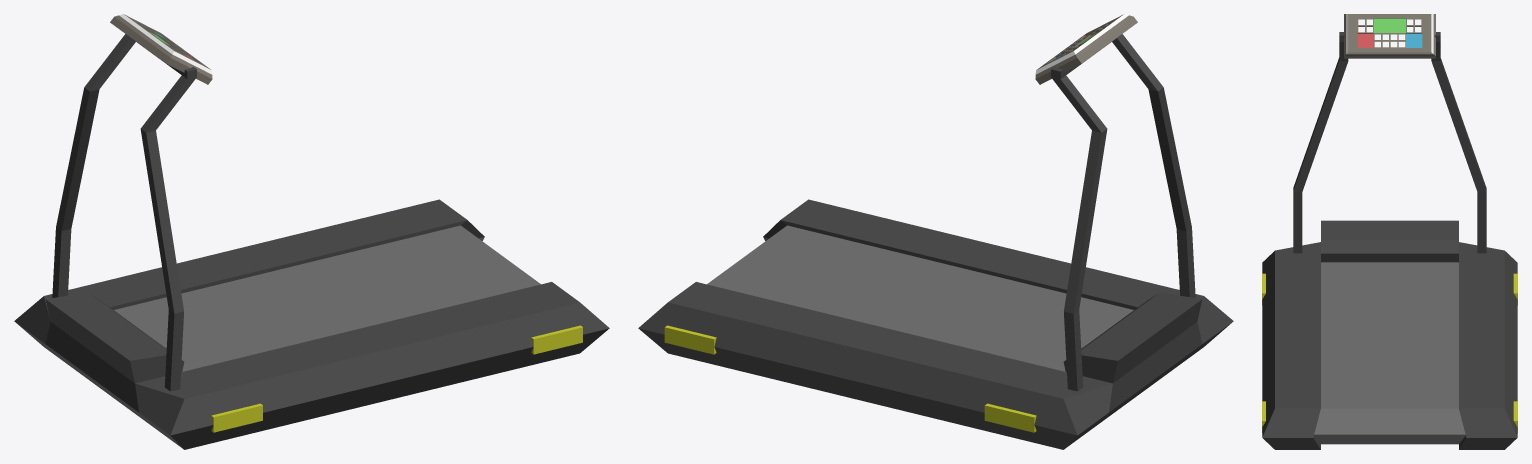
File: Treadmill.fbx
3 renders of one model, left to right at view 1: azimuth 30°, elevation 25°; view 2: azimuth 150°, elevation 25°; view 3: azimuth 270°, elevation 25°, orthographic. The views are drawn at different scales.
Parts seen in each view (by area): view 1: Treadmill; view 2: Treadmill; view 3: Treadmill.
Boxes of the visible parts, bbox=[...] form: Treadmill: bbox=[14, 14, 609, 449]; Treadmill: bbox=[638, 14, 1233, 449]; Treadmill: bbox=[1262, 14, 1517, 449].
Size of the model in its own units: 509 by 392 by 311.
